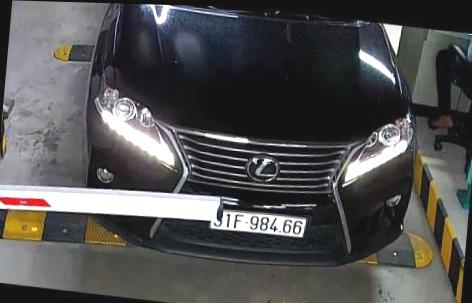License_Plate: (211, 201, 315, 254)
